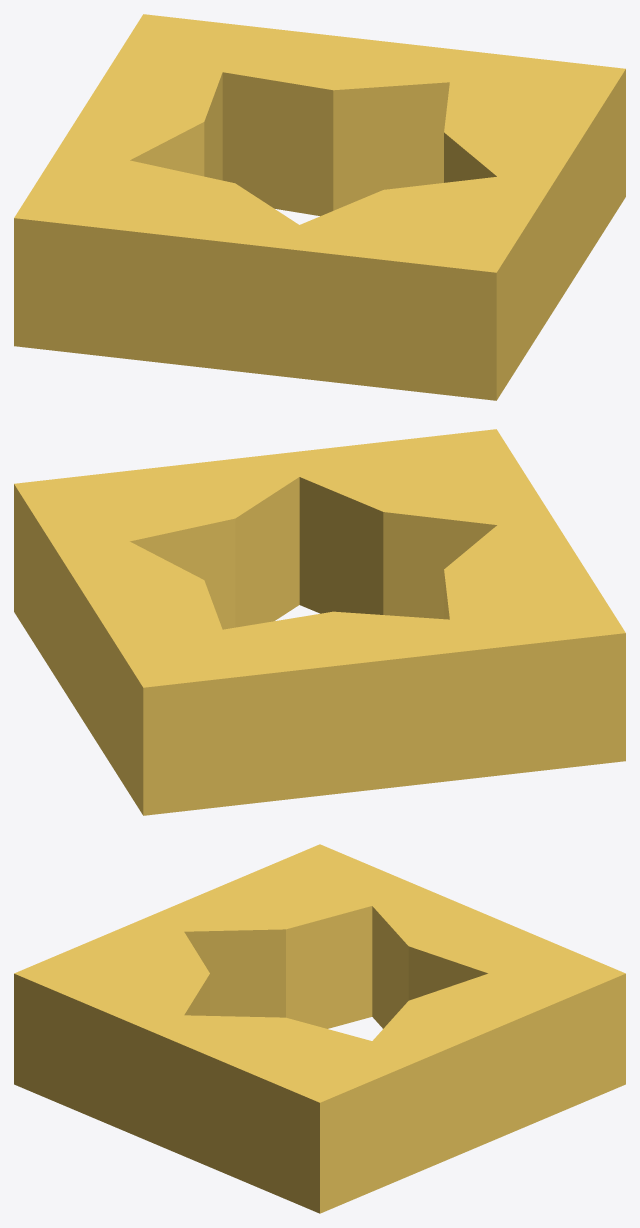
The picture shows the model from 3 angles, top to bottom: view 1: azimuth 30°, elevation 25°; view 2: azimuth 150°, elevation 25°; view 3: azimuth 270°, elevation 25°; orthographic projection. The views are drawn at different scales.
Parts seen in each view (by area): view 1: Mesh1 Difference Model; view 2: Mesh1 Difference Model; view 3: Mesh1 Difference Model.
Boxes of the visible parts, x1,y1,x2,y2 form: Mesh1 Difference Model: (14, 14, 625, 400); Mesh1 Difference Model: (14, 429, 625, 815); Mesh1 Difference Model: (14, 844, 625, 1213).
Bounding box in the file's own units: 1 × 0.2 × 1.
